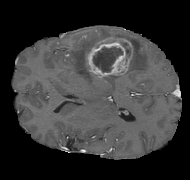Edema: (62, 27, 156, 85)
EnhancingTumors: (82, 33, 136, 74)
Necrosis: (83, 32, 137, 75)
